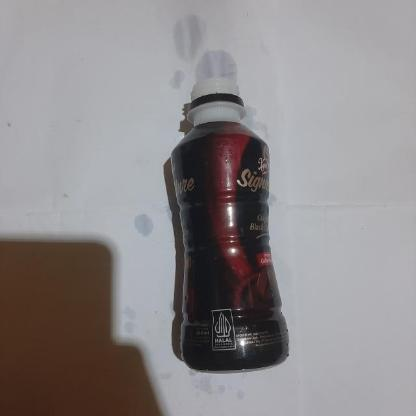Plastic Bottle: (170, 79, 290, 373)
